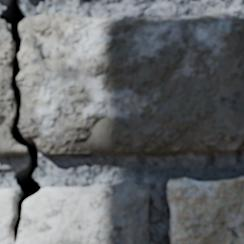brick: (167, 176, 243, 243)
broken_brick: (18, 11, 243, 157), (17, 180, 151, 243), (0, 21, 26, 158), (0, 188, 16, 243)
crack: (0, 0, 42, 243)
